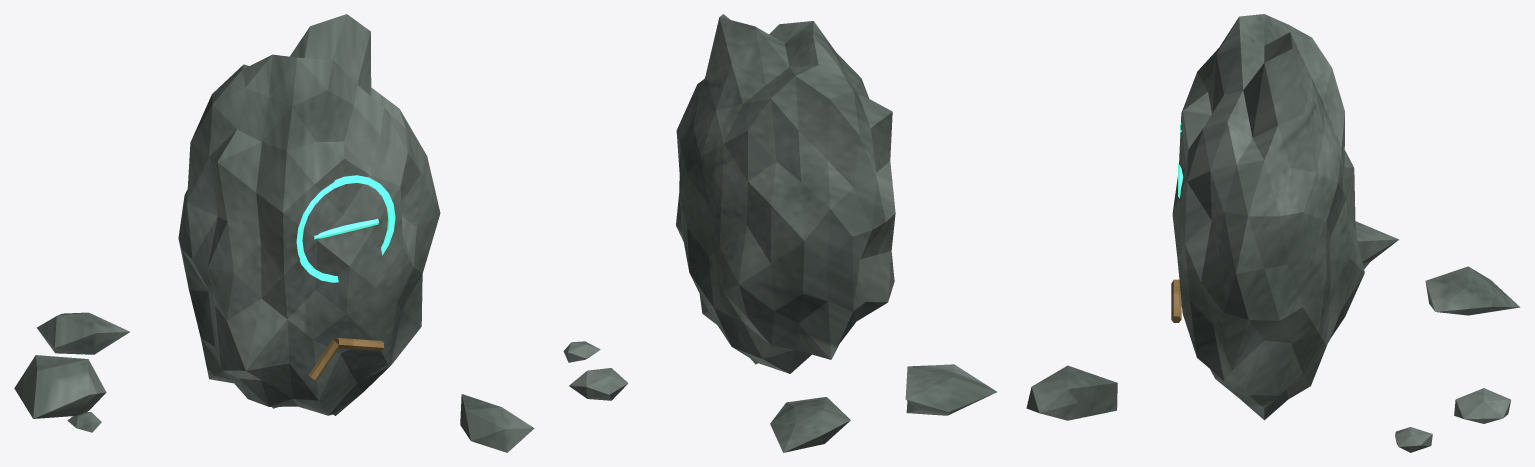
Rendered from 0667_waystone_17.glb.
3 views of the same model, side by side, from view 1: azimuth 30°, elevation 25°; view 2: azimuth 150°, elevation 25°; view 3: azimuth 270°, elevation 25° (orthographic). The views are drawn at different scales.
Parts seen in each view (by area): view 1: stone, glow, brass; view 2: stone; view 3: stone.
Part boxes in pixels (<box>): stone: <box>14,14,534,452</box>; glow: <box>296,175,395,282</box>; brass: <box>308,337,383,380</box>; stone: <box>563,14,996,452</box>; stone: <box>1026,14,1520,452</box>.
Bounding box in the file's own units: 1.86 × 1.64 × 1.91.
Materials: 3 (3 with a texture image).
